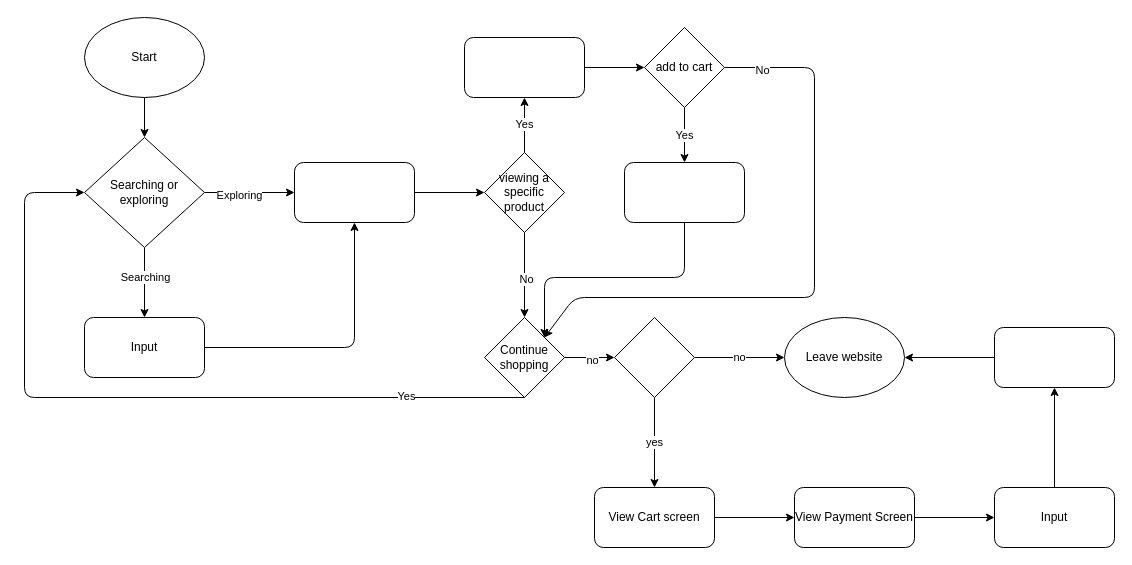
This 1132x565 diagram has some shape labels left out. Here are the shapes that lost their labels. From the top down, the centre of each, then its label:
At [524,67]: "product's webpage".
At [354,192]: "Looking over products".
At [684,192]: "cart confirmation".
At [654,357]: "Checkout".
At [1054,357]: "Order confirmation screen & receiving email".
